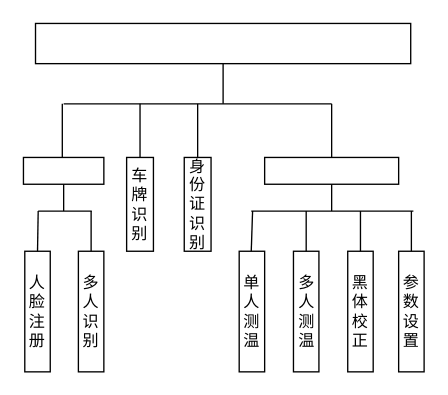
Some shapes in this 448 by 395 pixel diagram are drawn without their labels. The box of each missing label's shape, as (x1, y1, x2, y2) in pixels:
主界面: (34, 22, 411, 64)
人体测温: (263, 156, 399, 184)
人脸识别: (22, 156, 104, 184)
